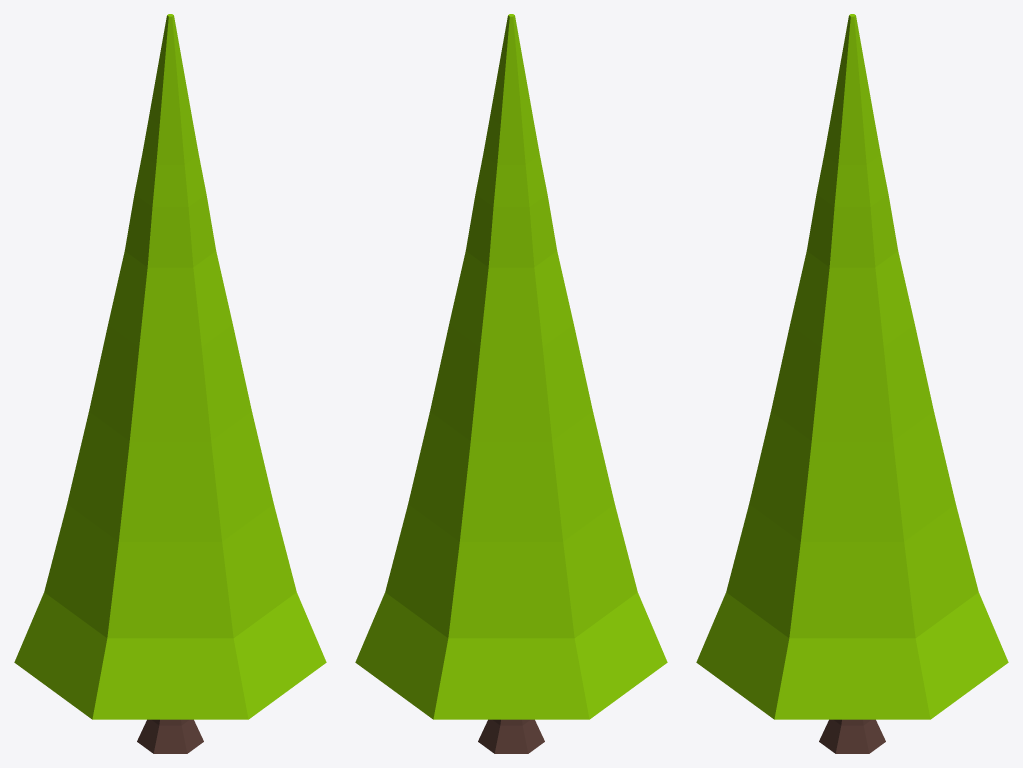
File: Tree01.fbx
3 views of the same model, side by side, from view 1: azimuth 30°, elevation 25°; view 2: azimuth 150°, elevation 25°; view 3: azimuth 270°, elevation 25° (orthographic).
Visible parts, largest first — view 1: Cylinder; view 2: Cylinder; view 3: Cylinder.
Boxes of the visible parts, x1,y1,x2,y2 form: Cylinder: (14, 14, 326, 753); Cylinder: (355, 14, 667, 753); Cylinder: (696, 14, 1008, 753).
Bounding box in the file's own units: 543 × 1610 × 627.
